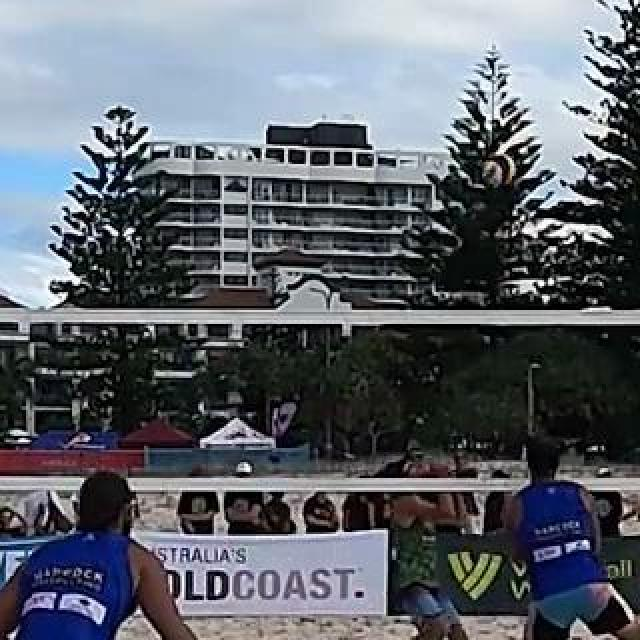volleyball: (485, 156, 517, 188)
